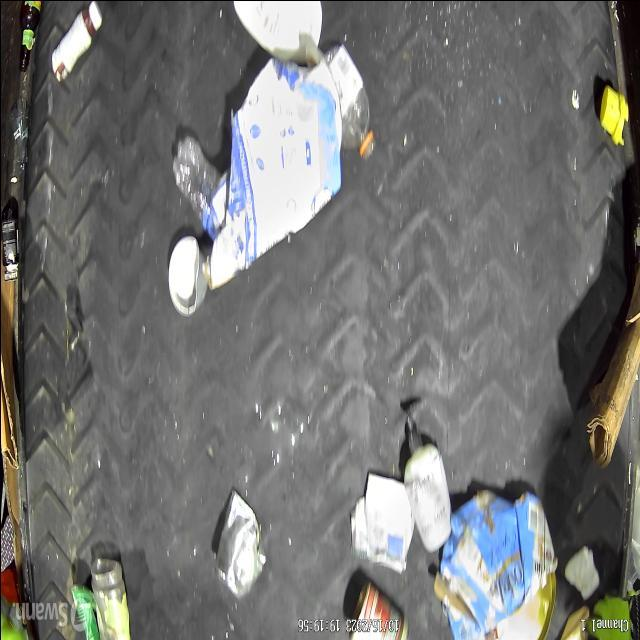can: (212, 487, 268, 601), (364, 469, 416, 574), (164, 230, 207, 314), (346, 492, 366, 560)
plastic_bottle: (317, 41, 375, 163), (169, 130, 223, 240)
